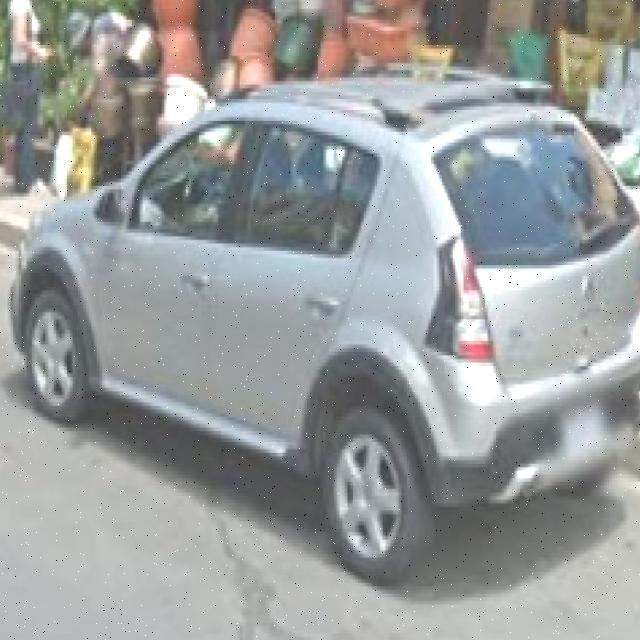car: (11, 80, 640, 570)
